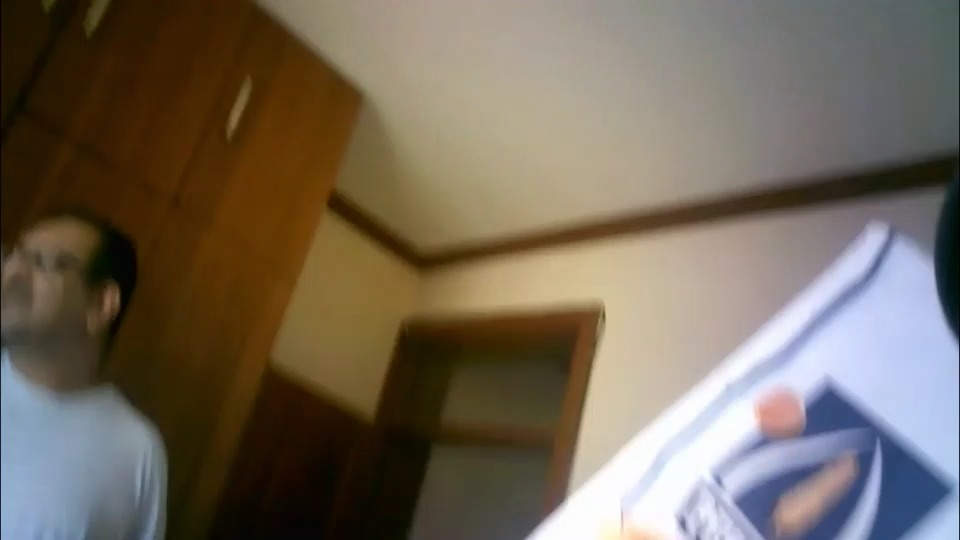wheat_flour_blue_label: (521, 221, 960, 536)
